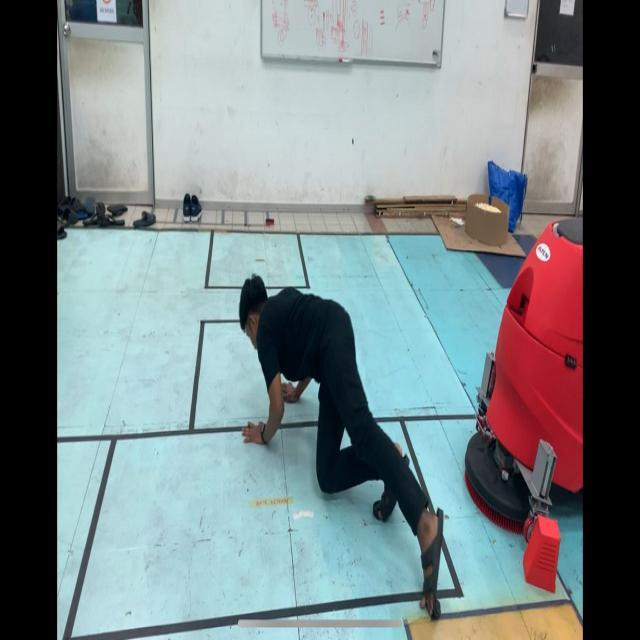fall: (234, 262, 445, 619)
